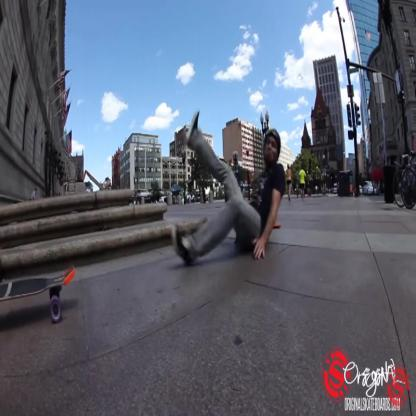Fall_Down: (172, 108, 288, 268)
